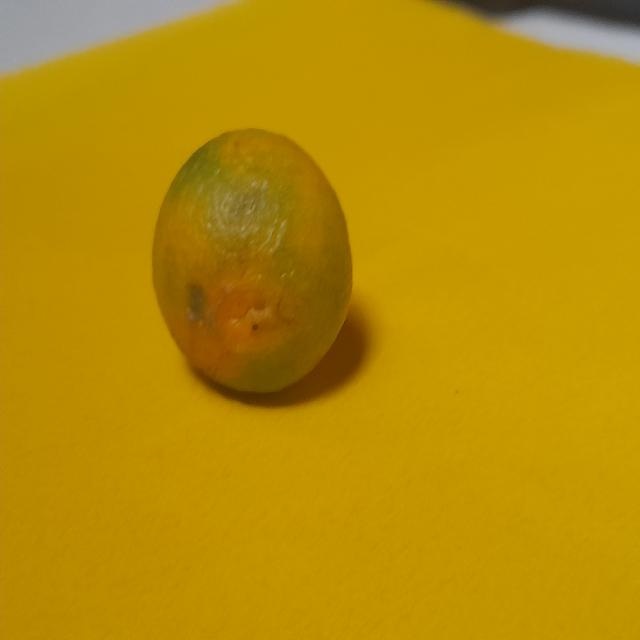greening: (146, 124, 374, 390)
